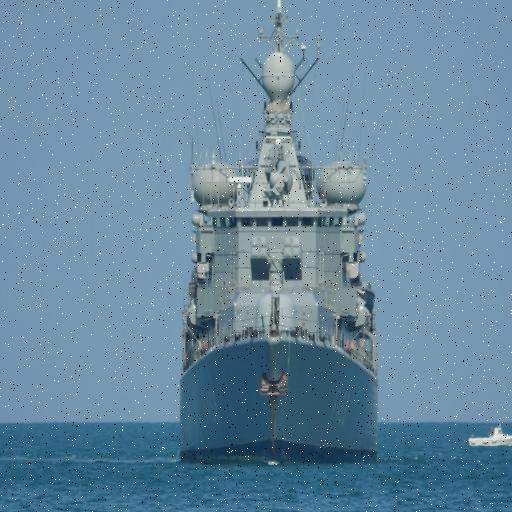Fragata: (179, 1, 380, 465)
